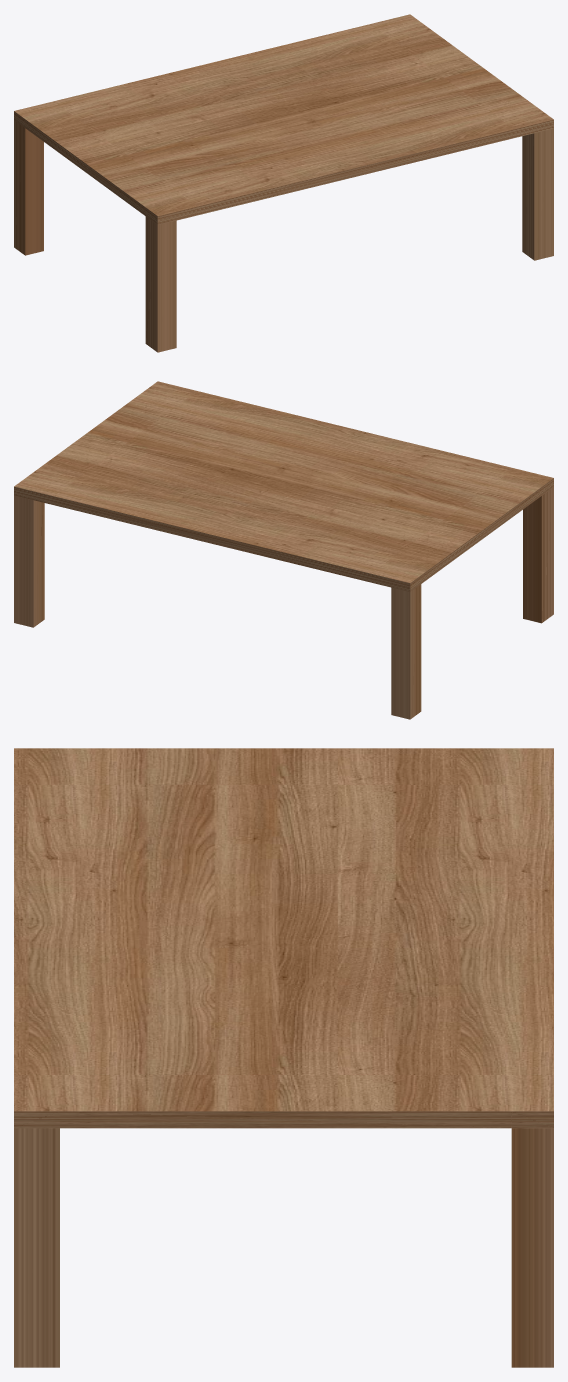
Rendered from tables.fbx.
3 views of the same model, one above another, from view 1: azimuth 30°, elevation 25°; view 2: azimuth 150°, elevation 25°; view 3: azimuth 270°, elevation 25° (orthographic). The views are drawn at different scales.
Parts seen in each view (by area): view 1: tables; view 2: tables; view 3: tables.
Boxes of the visible parts, bbox=[...] form: tables: bbox=[14, 14, 553, 352]; tables: bbox=[14, 381, 553, 719]; tables: bbox=[14, 748, 553, 1367].
Size of the model in its own units: 180 by 59.33 by 113.
1 material, 1 textured.
